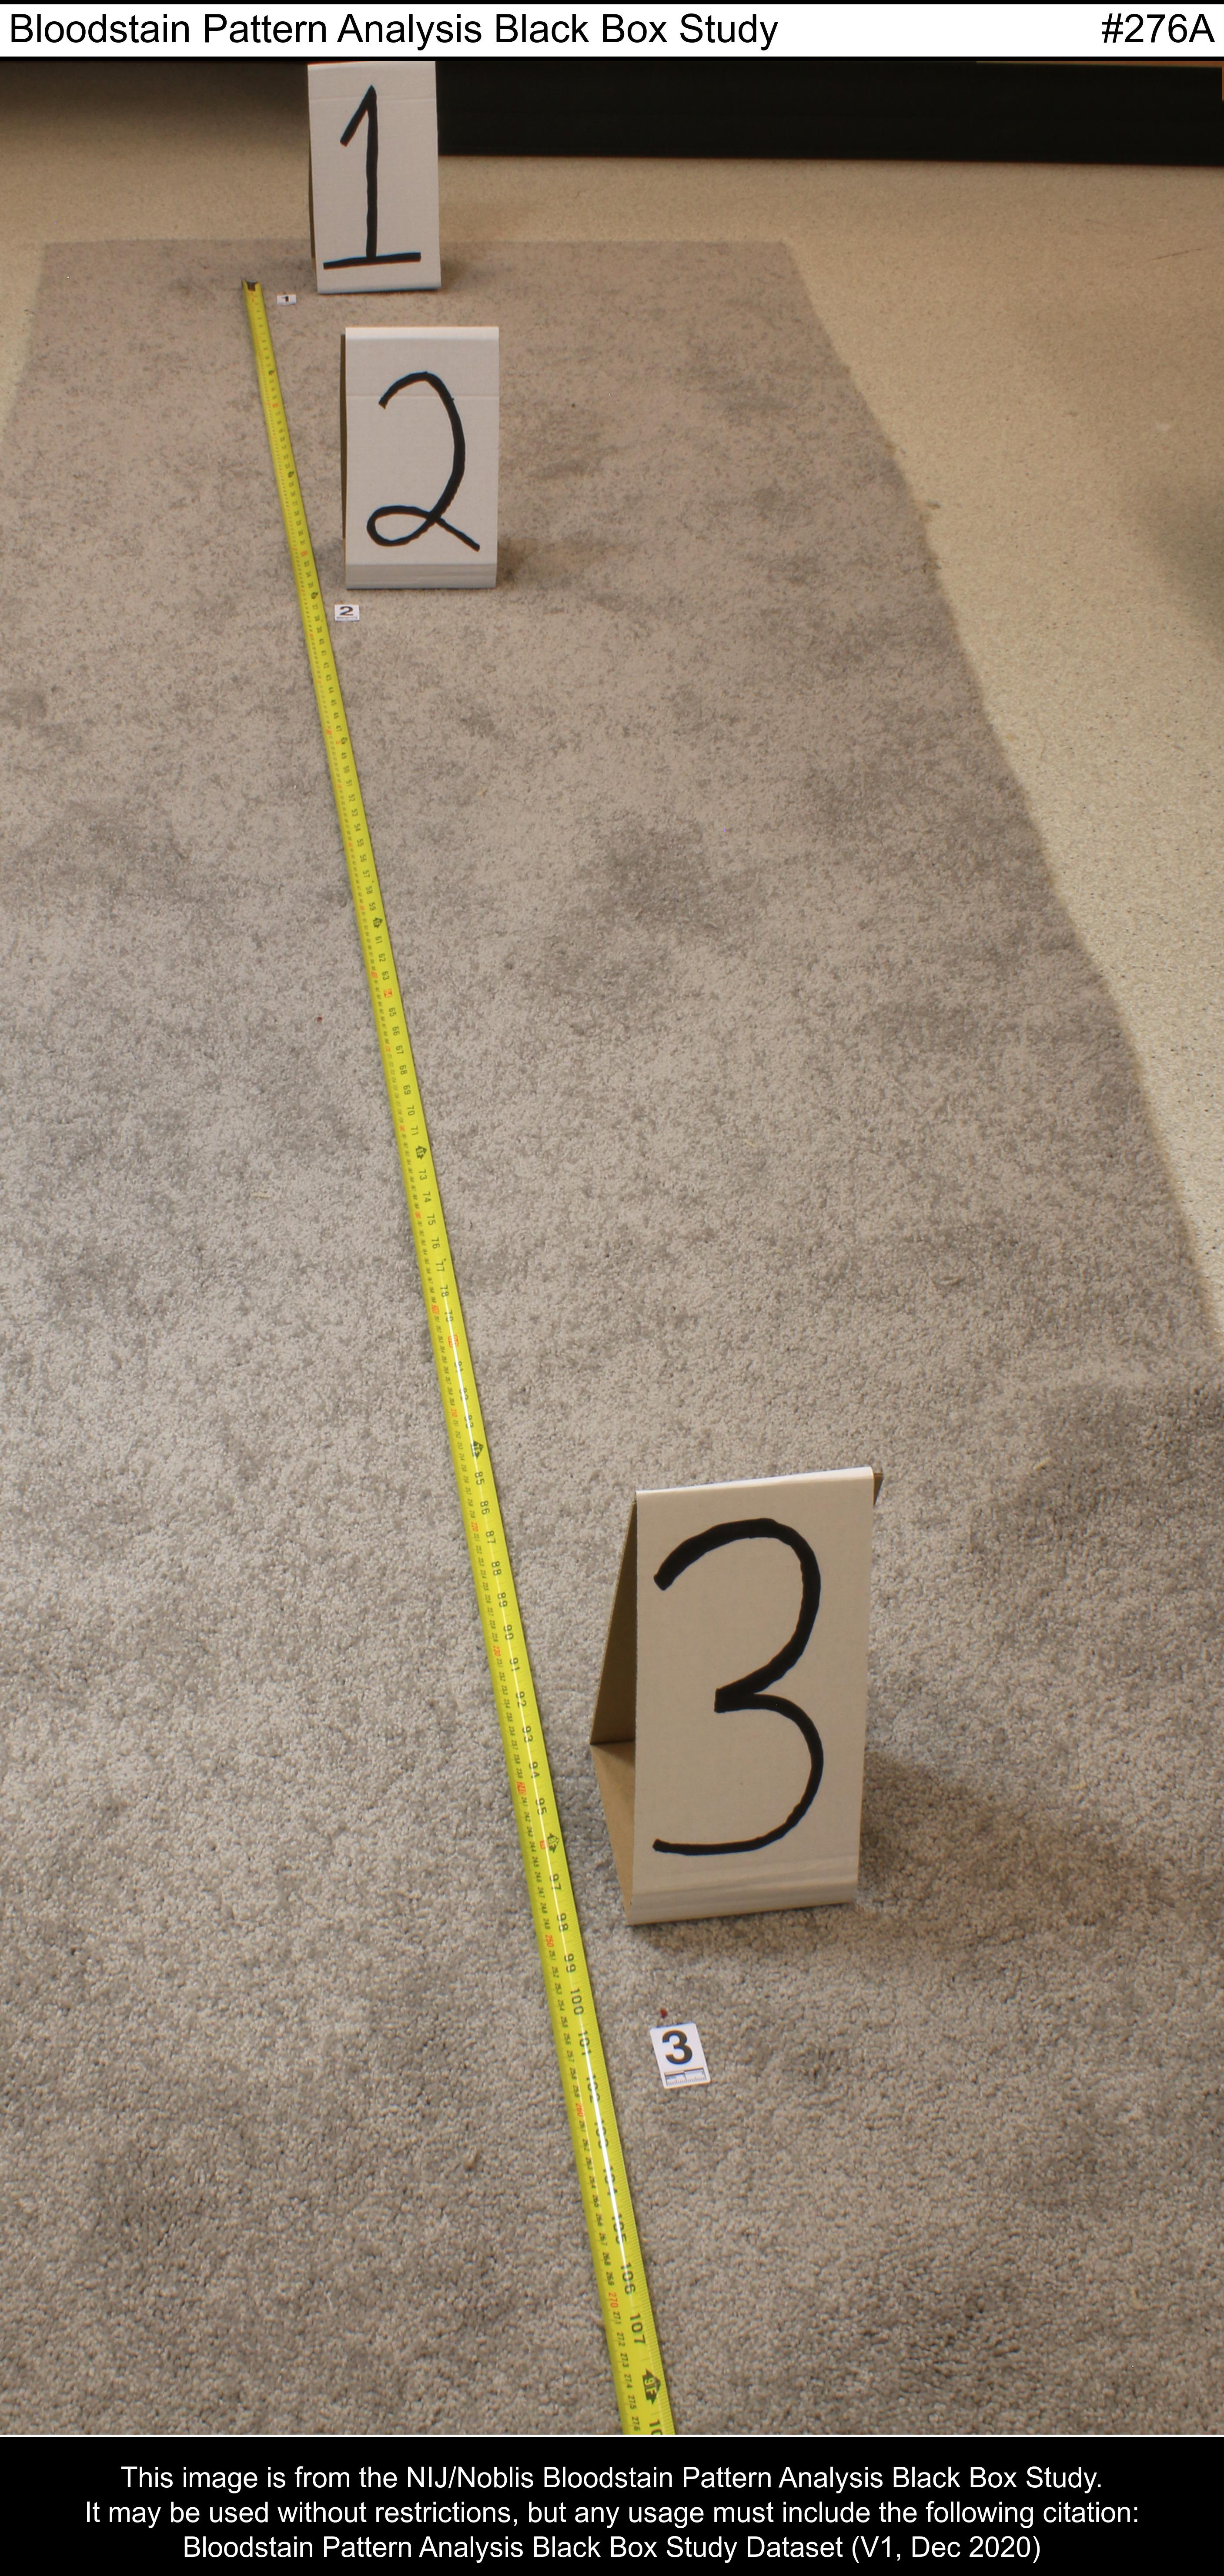Passive: (651, 2001, 679, 2022), (311, 1010, 330, 1028)
